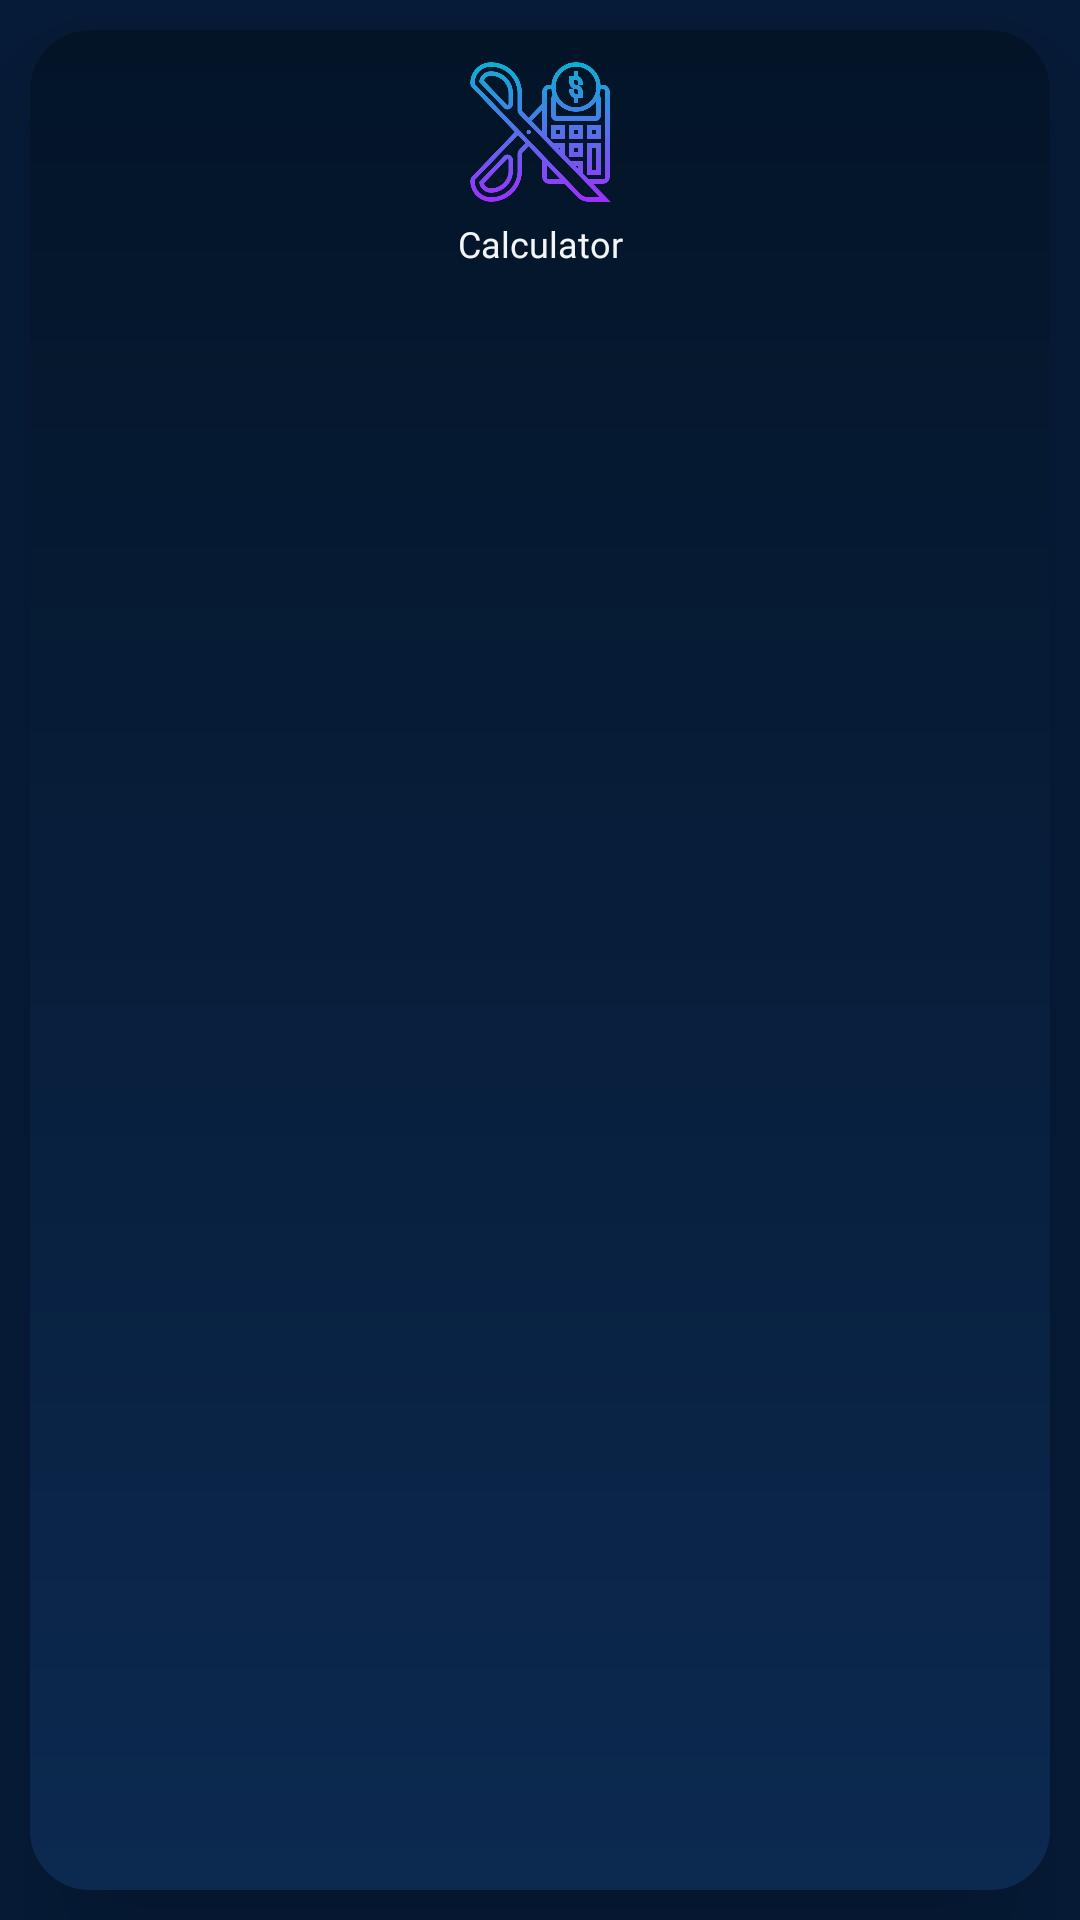

Screen size 1080x1920. Icon name, then its center in pixels as point (x, y):
tax: point (540, 132)
